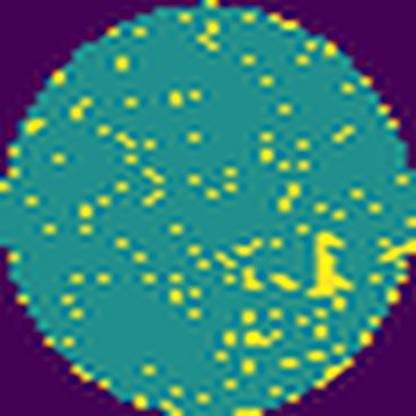Loc: (306, 229, 352, 299)
